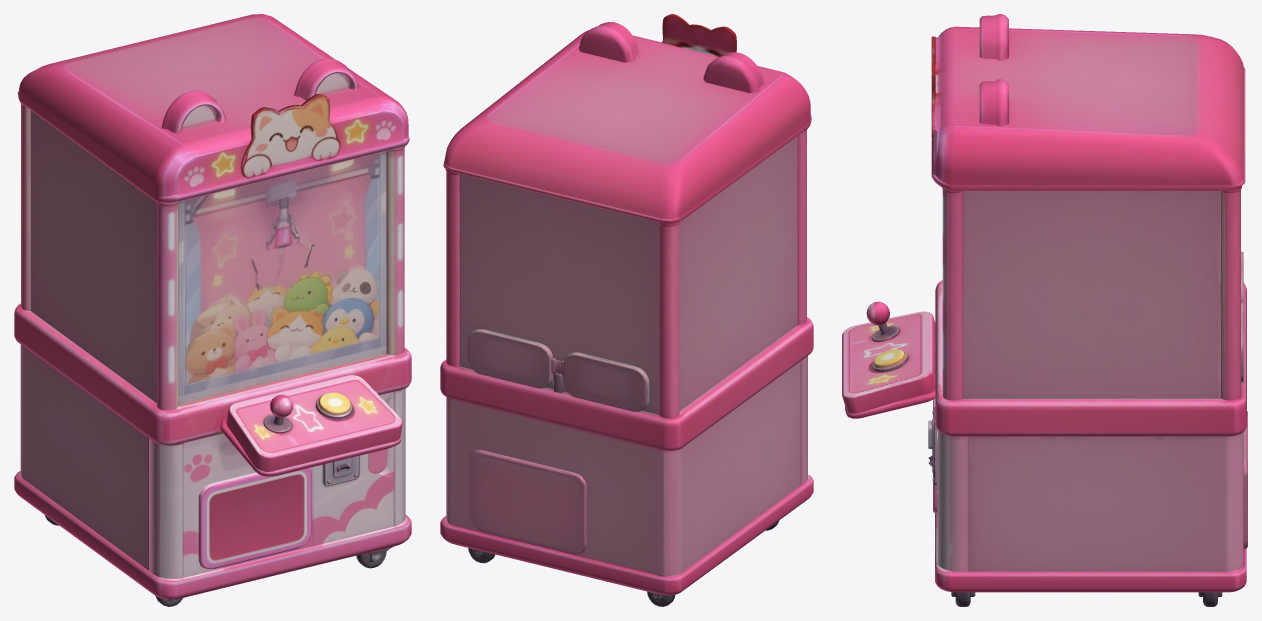
File: claw.glb
3 views of the same model, side by side, from view 1: azimuth 30°, elevation 25°; view 2: azimuth 150°, elevation 25°; view 3: azimuth 270°, elevation 25° (orthographic). The views are drawn at different scales.
Visible parts, largest first — view 1: tripo_node_1ea69785-83bc-4315-9607-8feb2b1ae3cd; view 2: tripo_node_1ea69785-83bc-4315-9607-8feb2b1ae3cd; view 3: tripo_node_1ea69785-83bc-4315-9607-8feb2b1ae3cd.
Boxes of the visible parts, x1,y1,x2,y2 form: tripo_node_1ea69785-83bc-4315-9607-8feb2b1ae3cd: [14, 14, 411, 606]; tripo_node_1ea69785-83bc-4315-9607-8feb2b1ae3cd: [440, 14, 813, 606]; tripo_node_1ea69785-83bc-4315-9607-8feb2b1ae3cd: [842, 14, 1247, 606].
Bounding box in the file's own units: 0.5356 × 0.9995 × 0.7222.
1 material, 1 textured.
